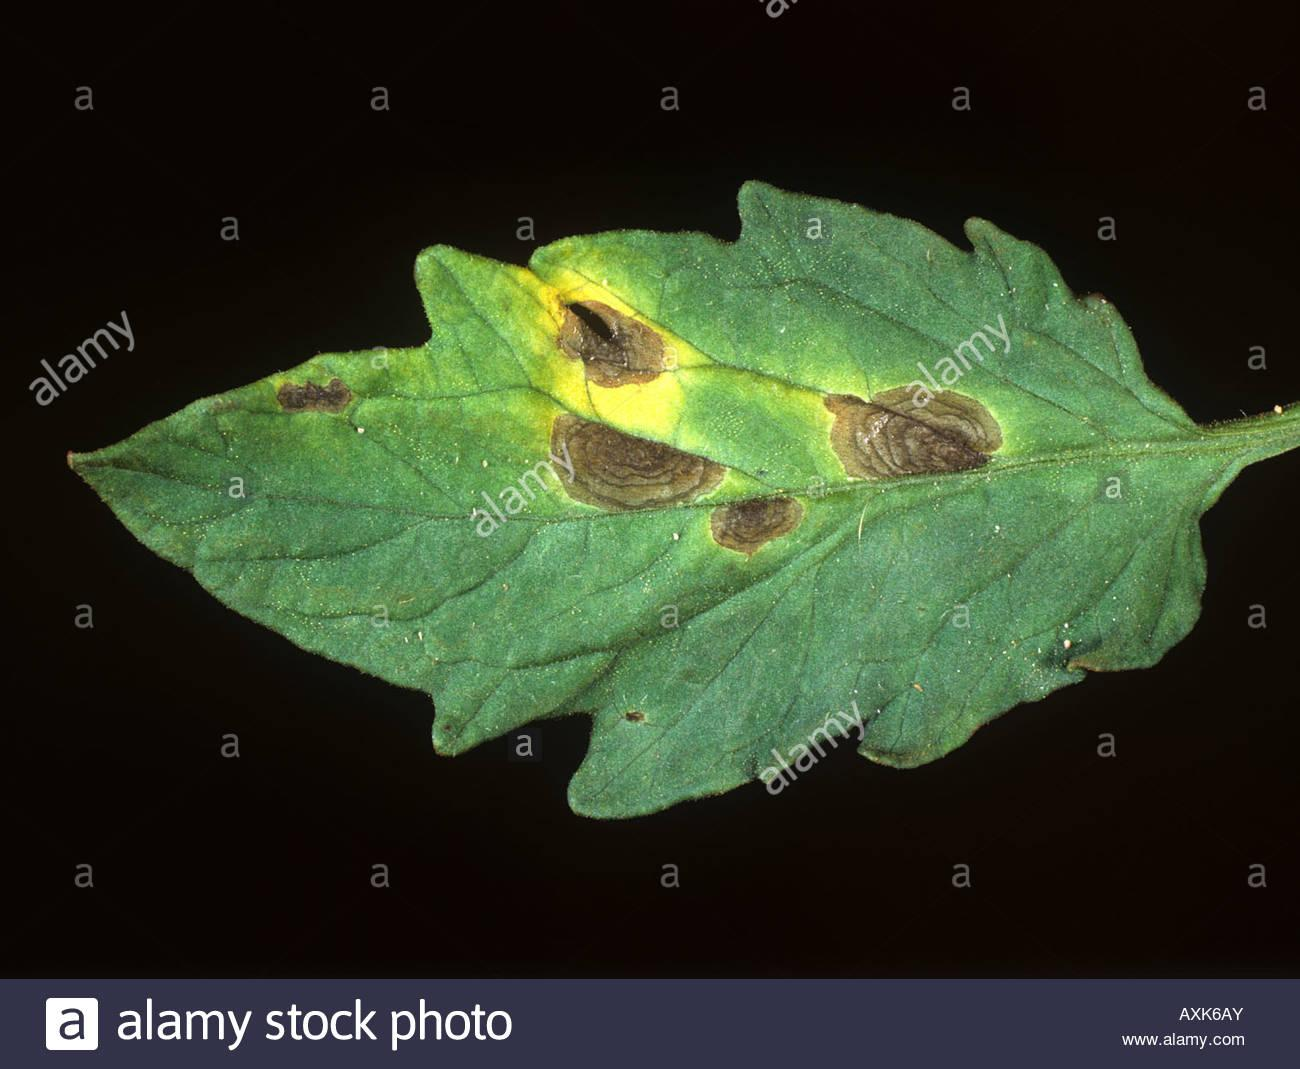Potato leaf late blight: (56, 170, 1232, 811)
